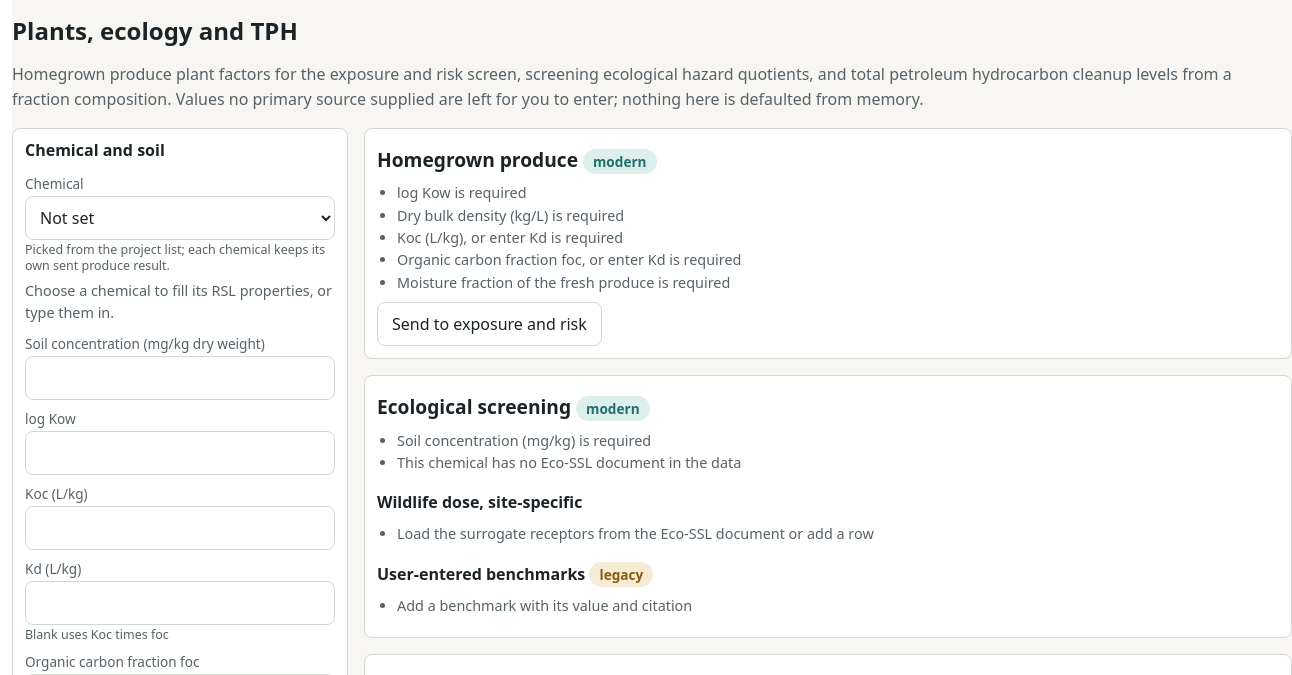
Test case: PlantsEcoPage › fills the RSL properties for a chosen chemical and screens it against its Eco-SSLs
The width and height of the screenshot is (1292, 675).
Select "Lead and Compounds" in the dropdown labelled "Chemical" at (180, 218), box [25,196,335,240]
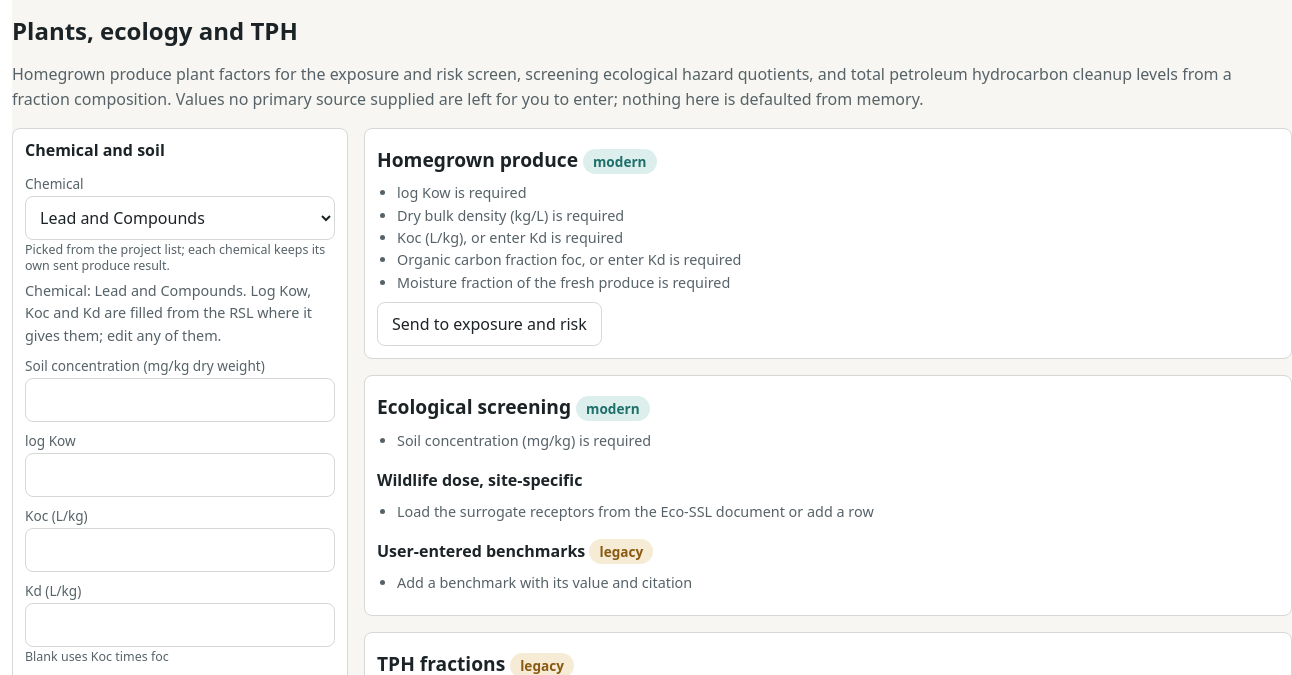
Type "100" into the field labelled "Soil concentration (mg/kg dry weight)".
click(180, 400); type("100")  # box [25,378,335,422]
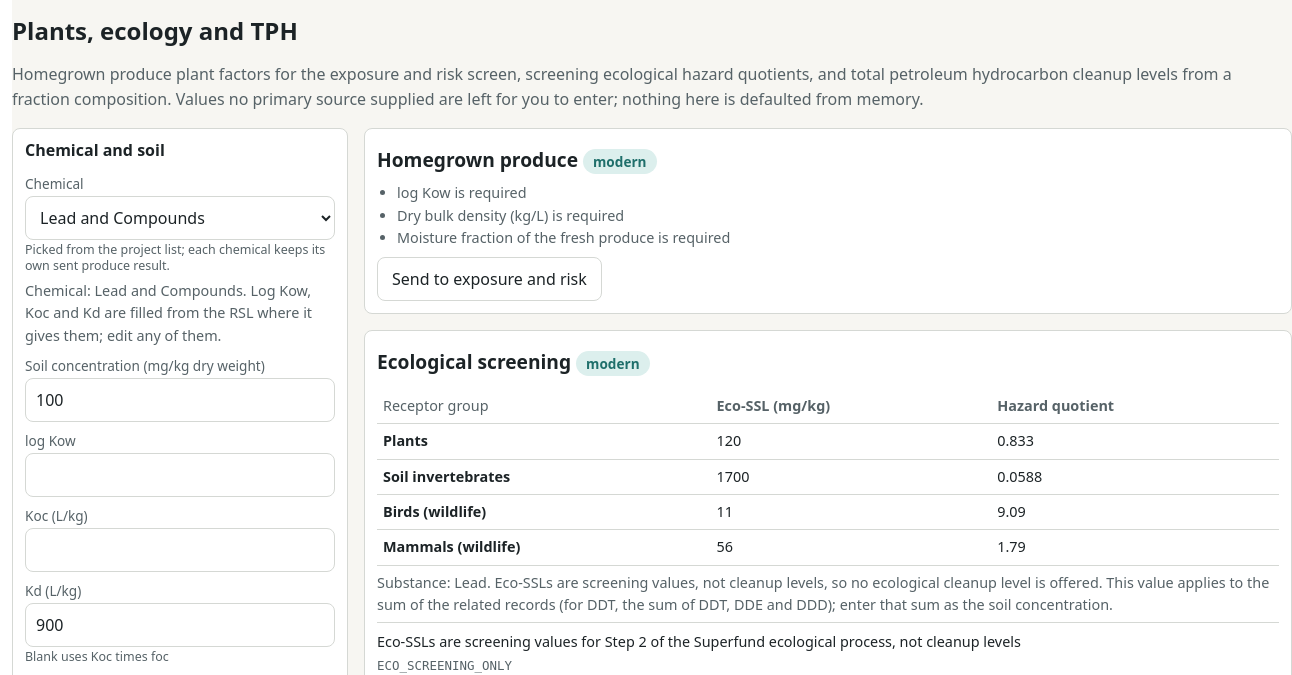
Expected: the column heading "Plants" is shown, [377,424,710,459]
Expected: the text "not cleanup levels" is shown, [487,573,1103,592]
Expected: the text "ECO_SCREENING_ONLY" is shown, [377,658,512,673]
